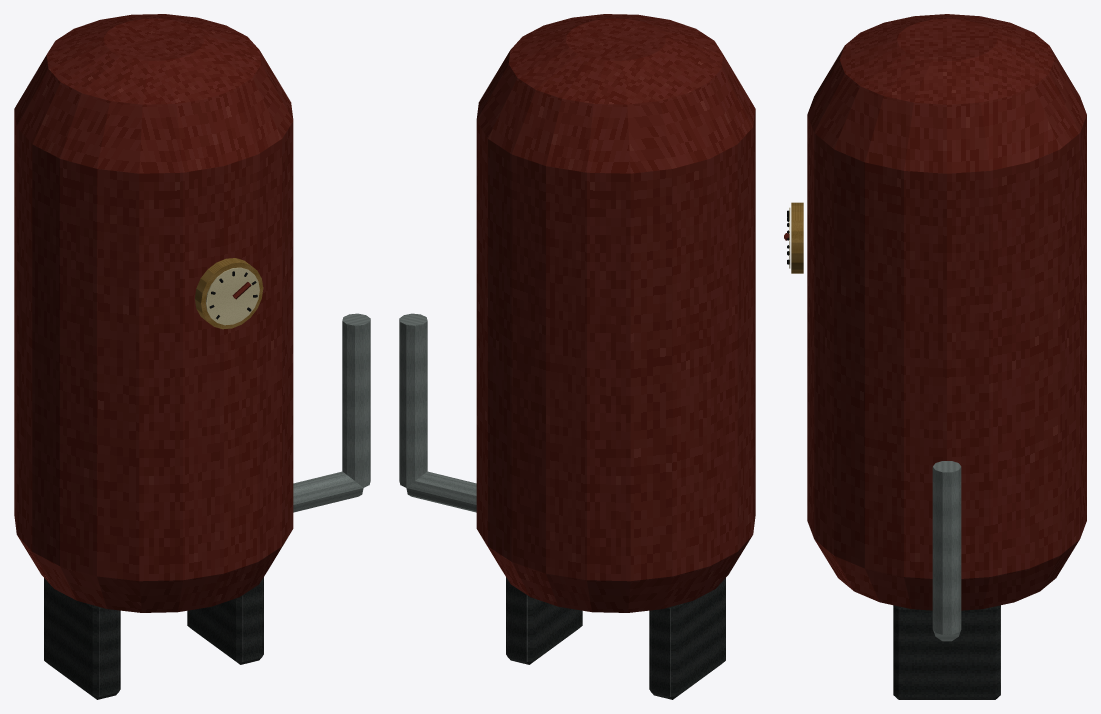
The model's file is level_expansion_vessel.glb.
3 views of the same model, side by side, from view 1: azimuth 30°, elevation 25°; view 2: azimuth 150°, elevation 25°; view 3: azimuth 270°, elevation 25° (orthographic).
Parts seen in each view (by area): view 1: level_expansion_vessel; view 2: level_expansion_vessel; view 3: level_expansion_vessel.
Part boxes in pixels (x1,y1,x2,y2): level_expansion_vessel: [14, 14, 370, 699]; level_expansion_vessel: [399, 14, 755, 699]; level_expansion_vessel: [784, 14, 1086, 699].
Size of the model in its own units: 1.08 by 1.91 by 0.845.
Materials: 6 (6 with a texture image).
